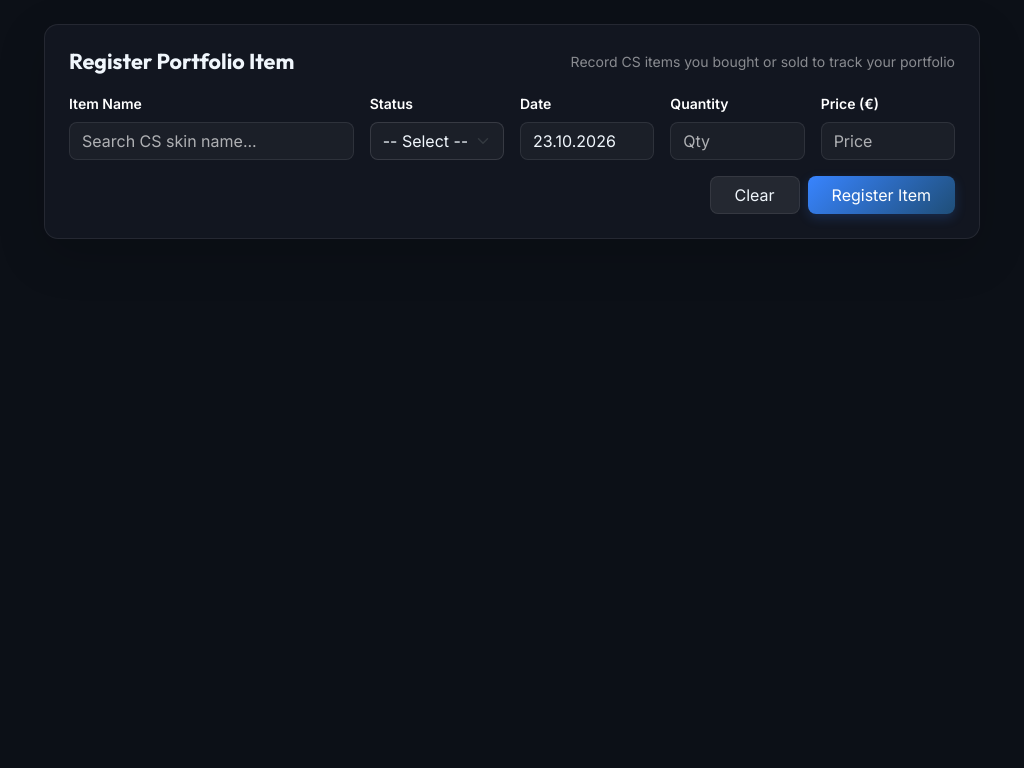
Test: renders the real portfolio registration form and date picker
The image size is (1024, 768).
Expected: the heading "Register Portfolio Item" is shown, left=69, top=49, right=294, bottom=75
Expected: the button "Register Item" is shown, left=808, top=176, right=955, bottom=214
Click the field labelled "Date".
click(587, 141)  # box left=520, top=122, right=654, bottom=160
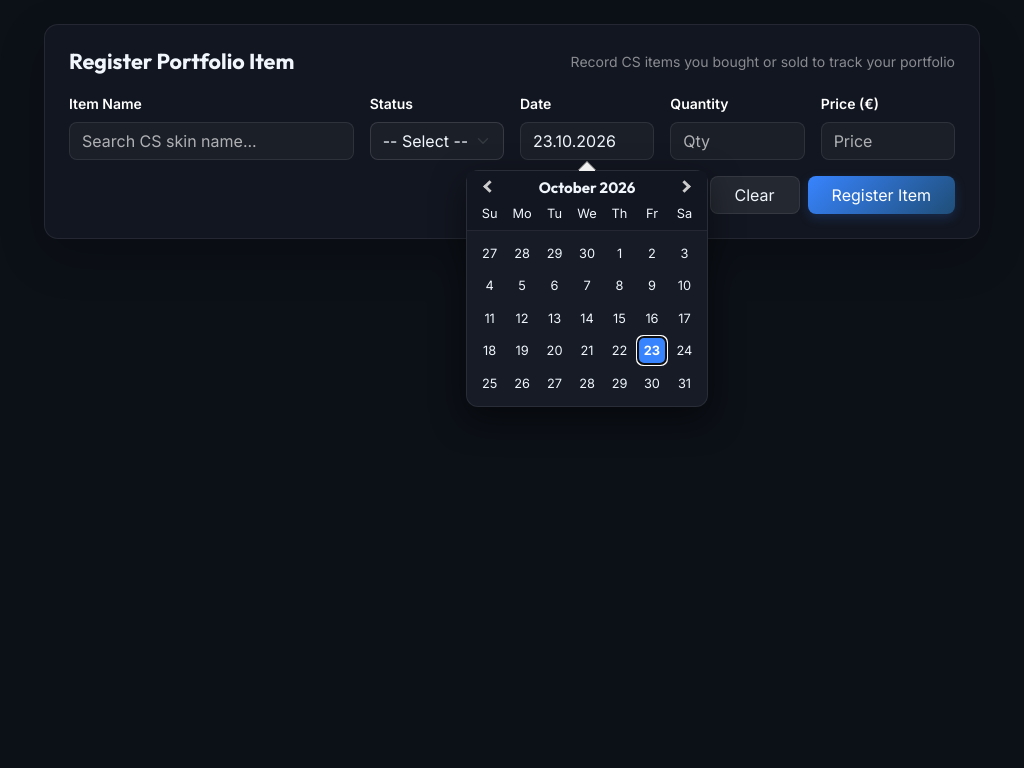
Result: the dialog is shown at left=466, top=170, right=708, bottom=407
Result: the button named "Next Month" is shown at left=673, top=173, right=705, bottom=205
